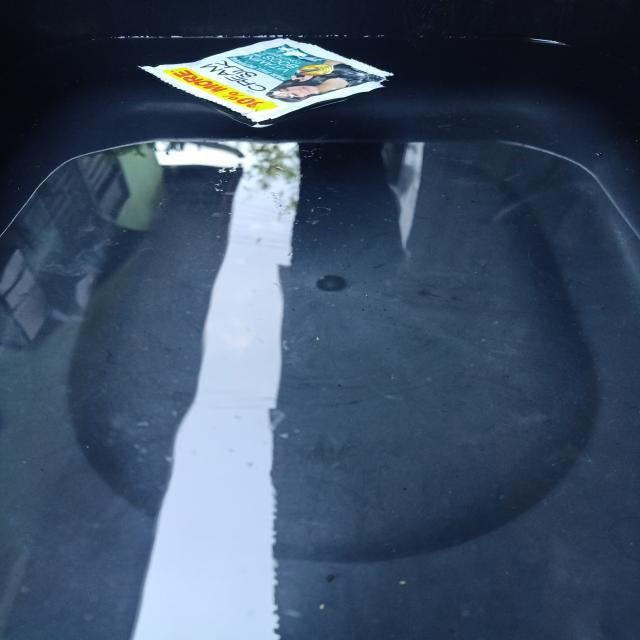Plastic Wrapper: (126, 21, 418, 144)
